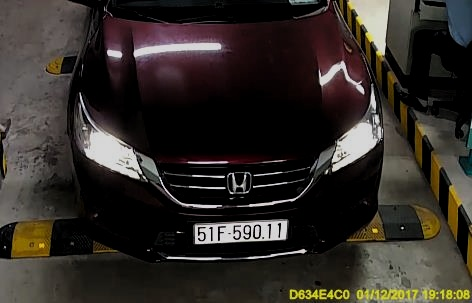plate: (192, 215, 288, 249)
